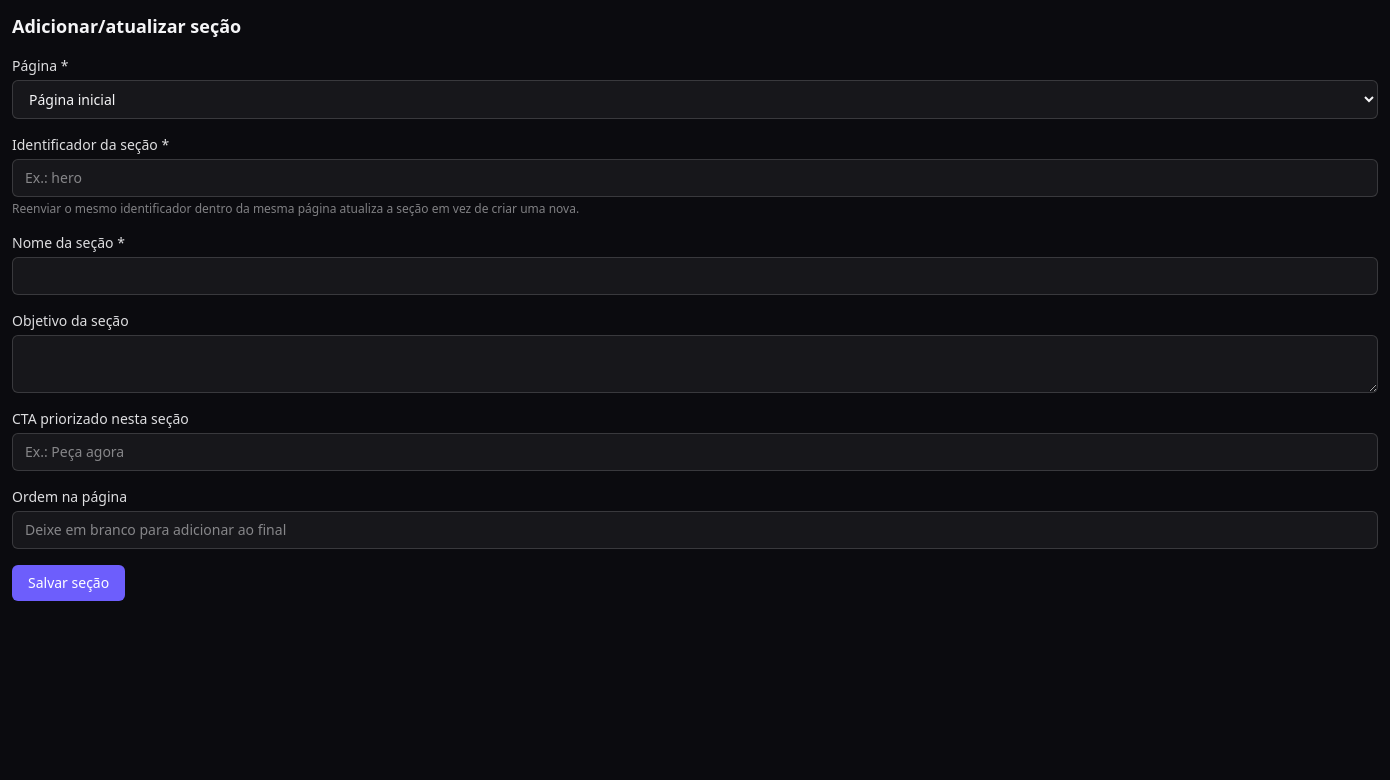
Test: SitePageSectionForm › shows the ineligibility reason returned by the action
The image size is (1390, 780).
Click the button "Salvar seção" at (69, 583), box left=12, top=565, right=125, bottom=601
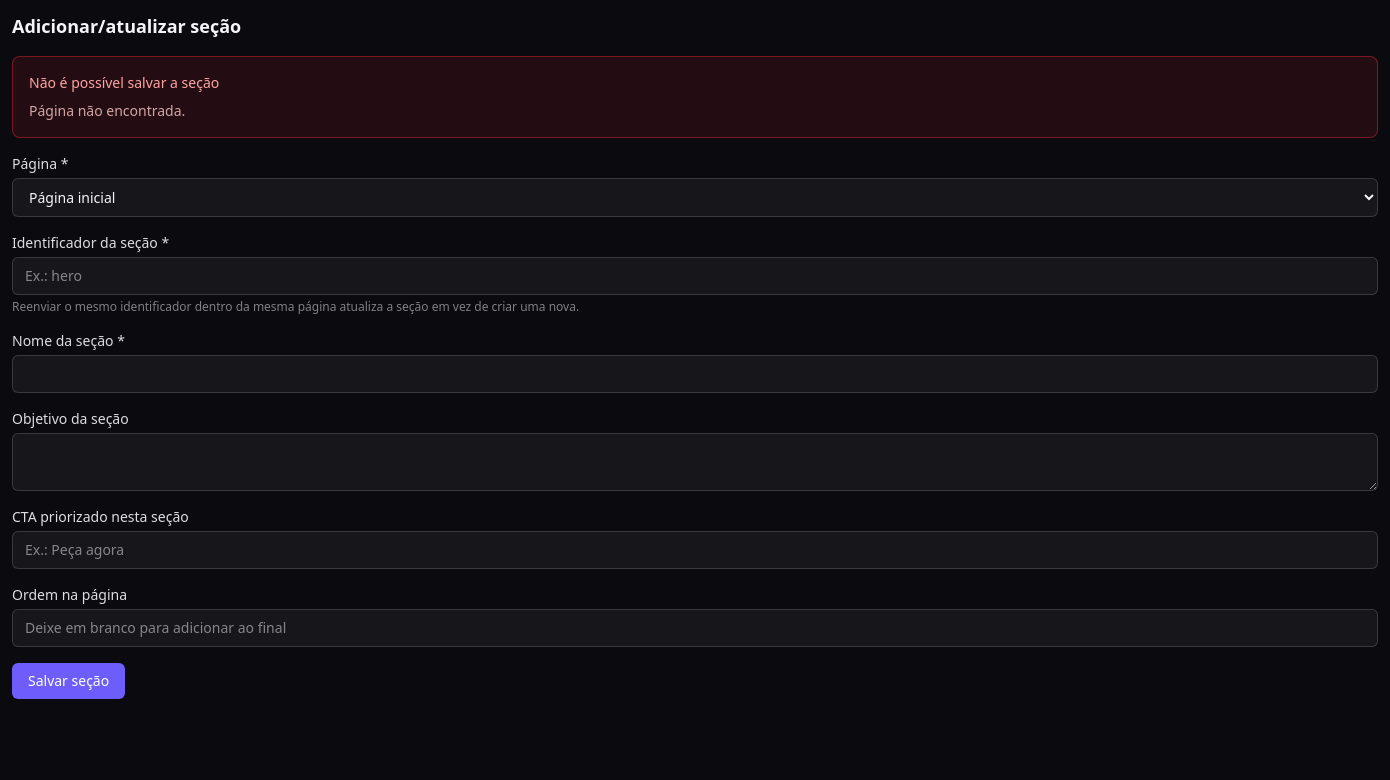
Check: the text "Página não encontrada." is shown, box left=29, top=101, right=185, bottom=121
